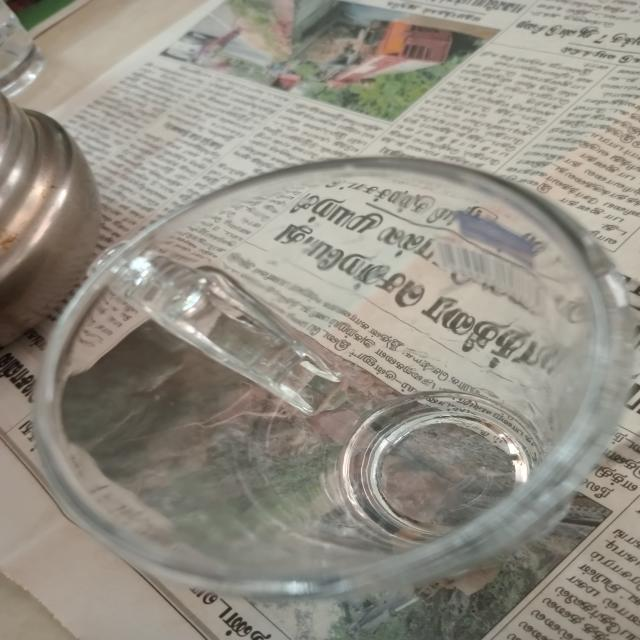glass-VX4N: (32, 153, 640, 600)
